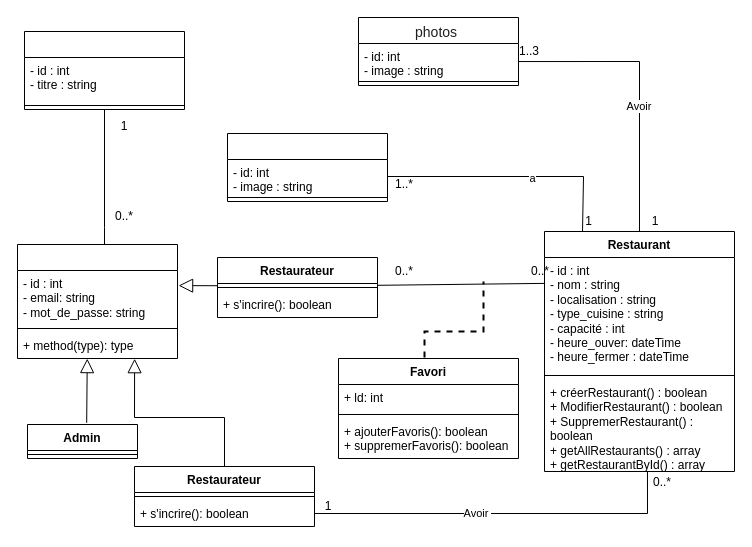
Some shapes in this 752 by 547 pixel diagram are drawn without their labels. Each missing label, with the box of its shape:
Menu: (226, 132, 388, 202)
Role: (24, 30, 184, 110)
User: (16, 244, 178, 358)
